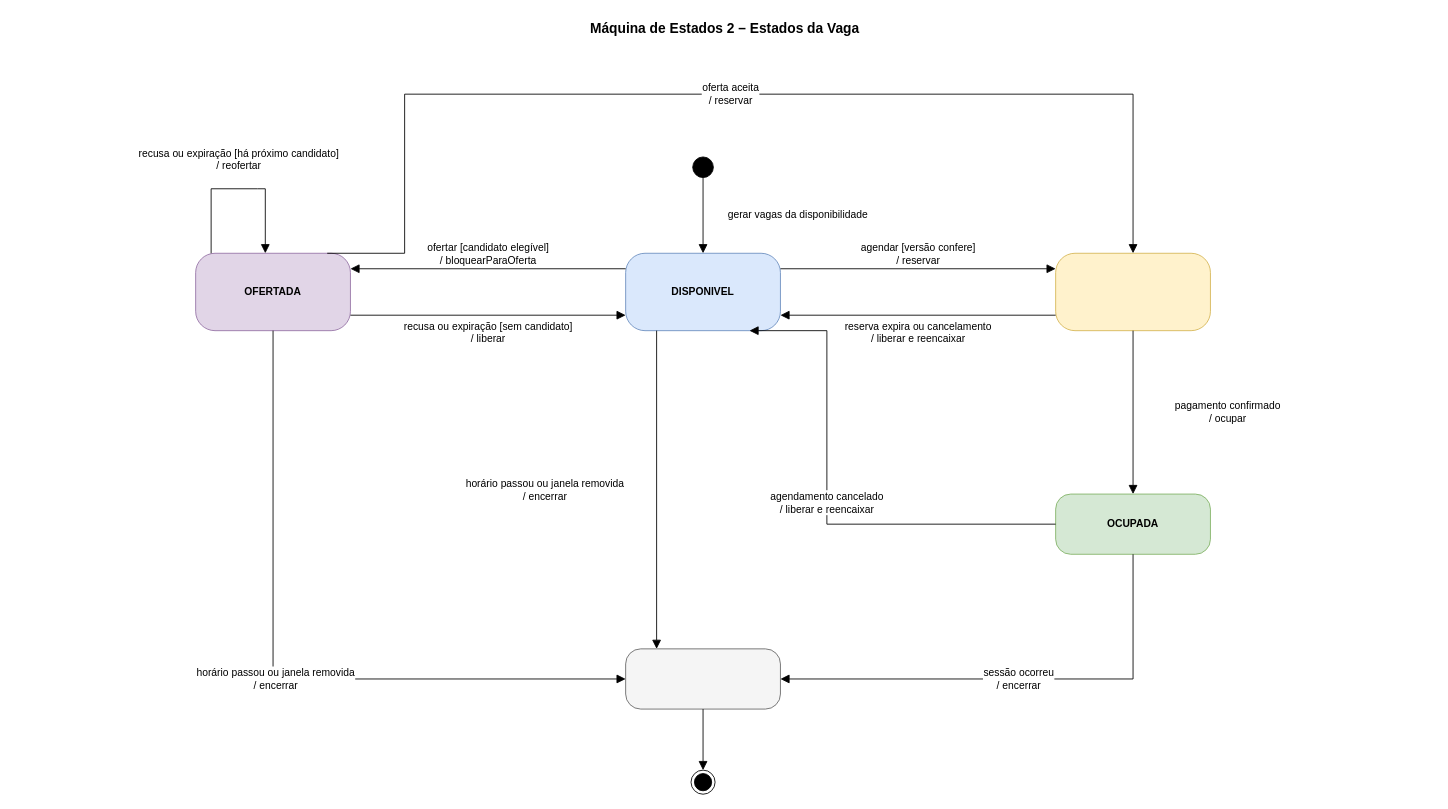
Some shapes in this 1448 by 809 pixel diagram are drawn without their labels. Each missing label, with the centre of its shape:
ENCERRADA: the point at 702,678
RESERVADA: the point at 1132,291
